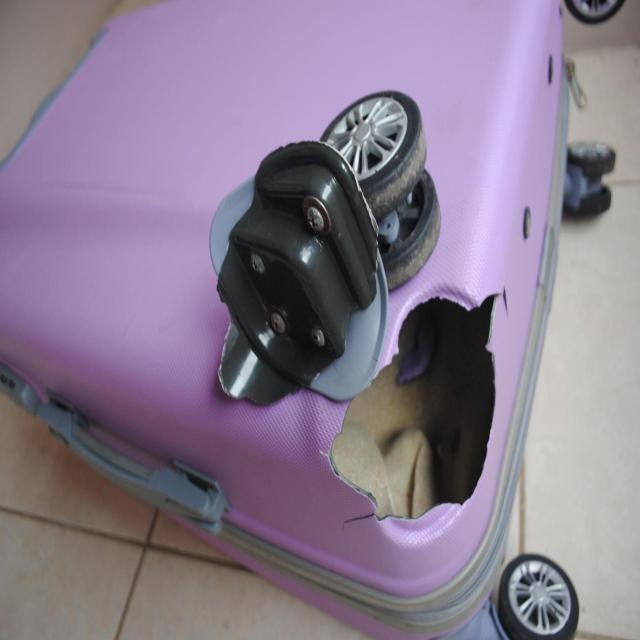Damage-bag: (211, 142, 495, 527), (502, 288, 508, 312)
